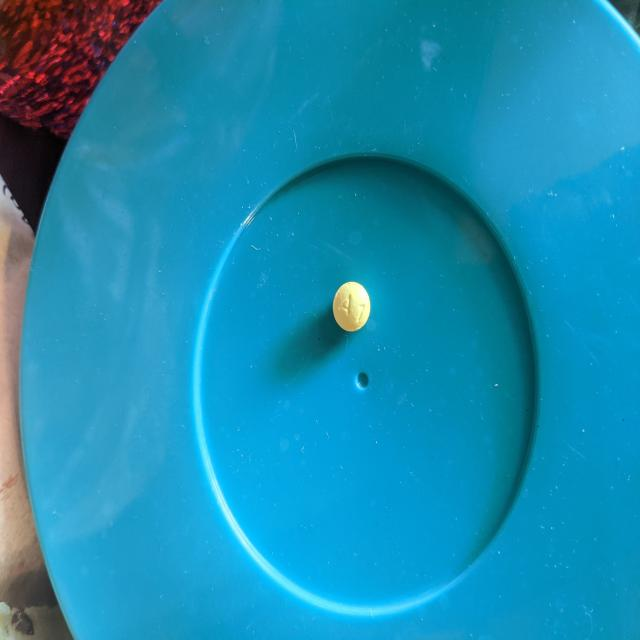non-organic waste: (332, 280, 371, 332)
